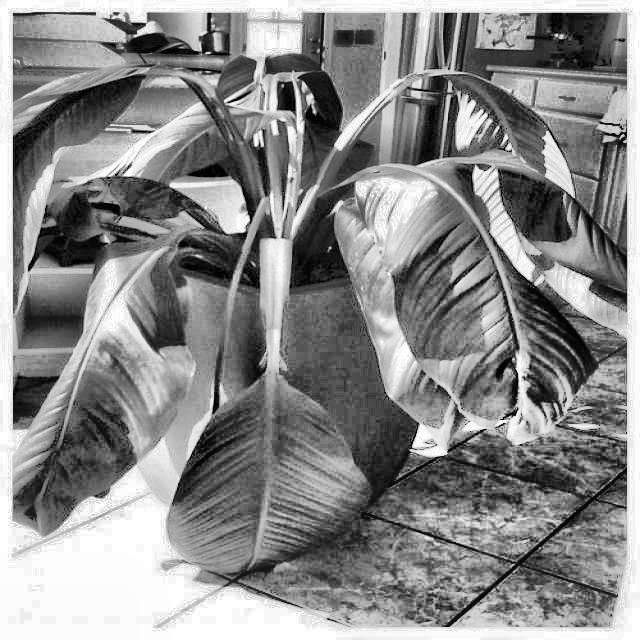plants: (39, 144, 638, 581)
